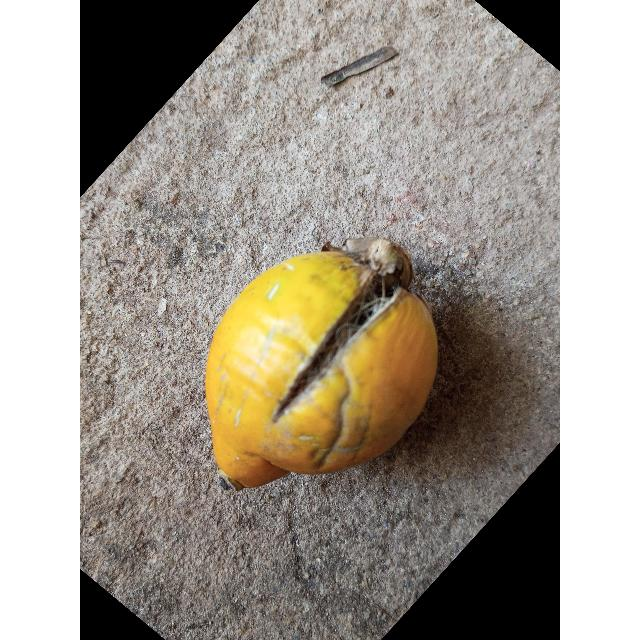damaged: (204, 241, 438, 491)
